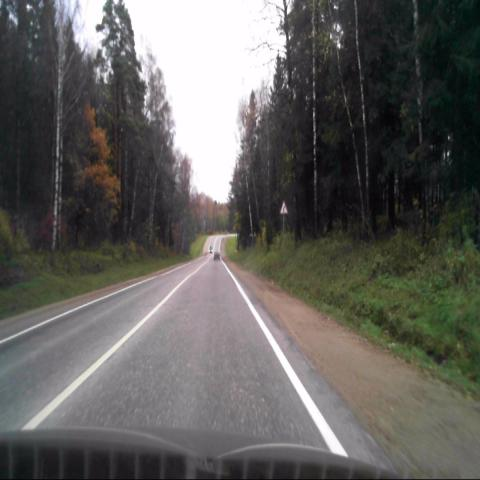1_11: (280, 200, 287, 214)
